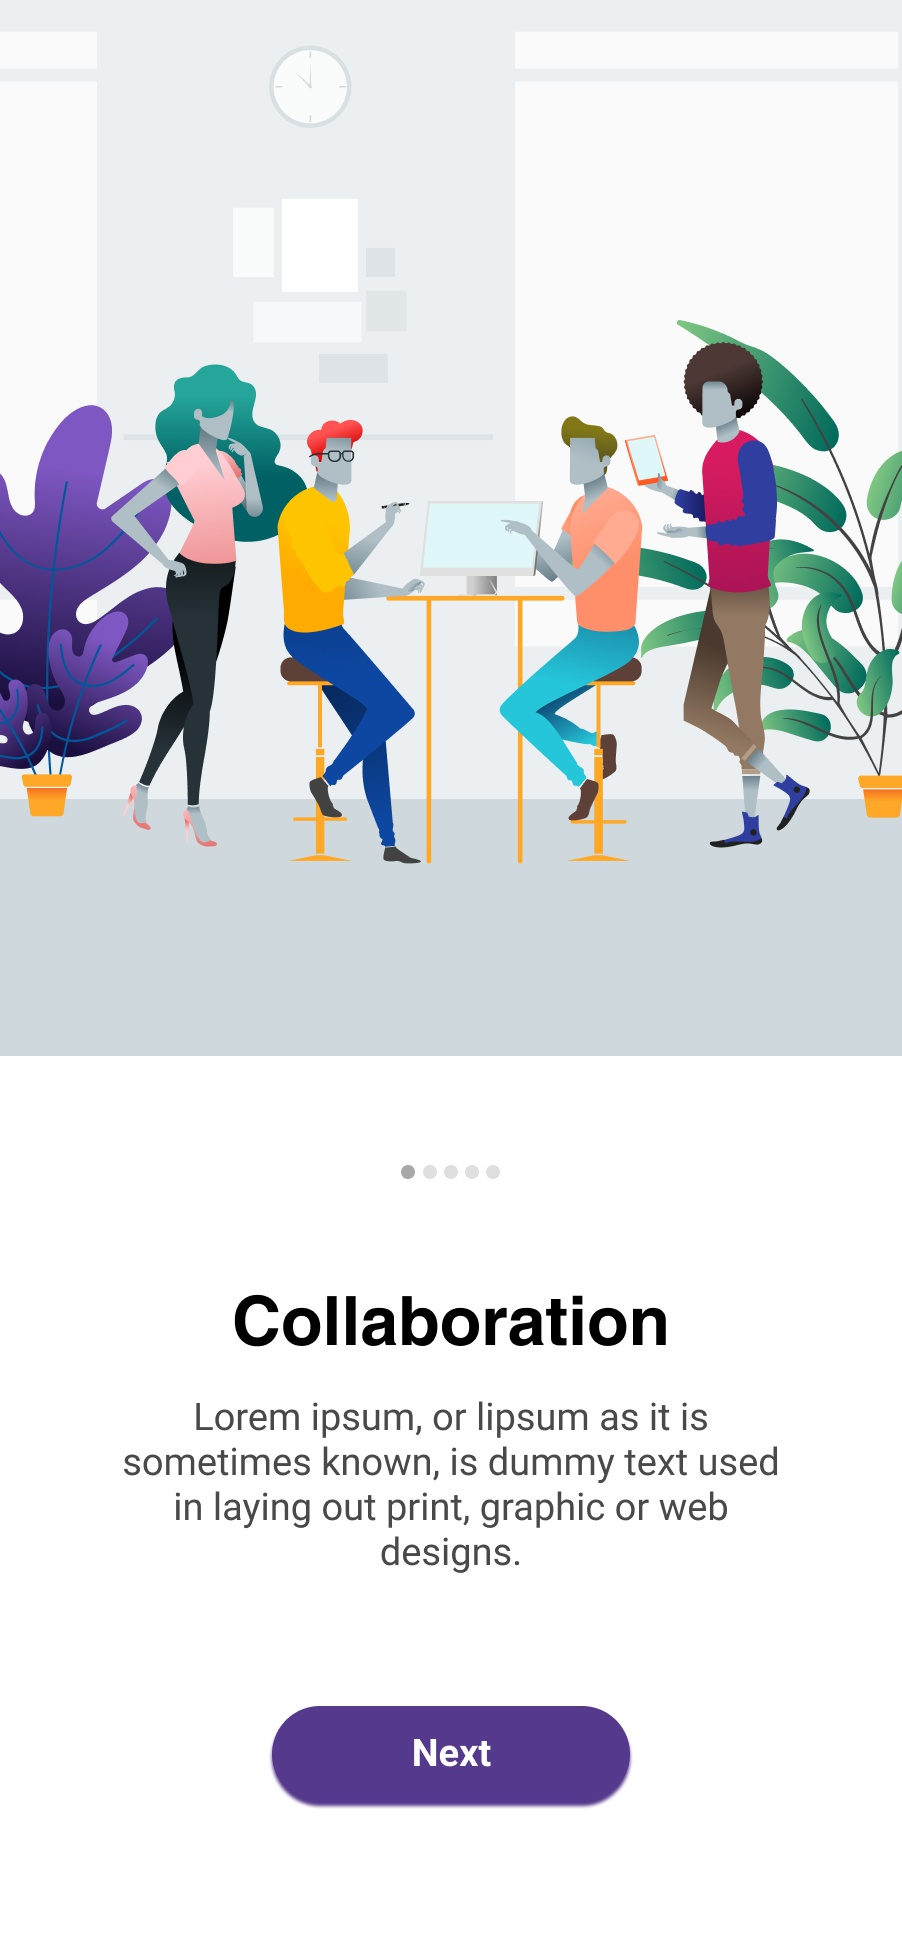Image: (1, 1, 901, 1056)
PageIndicator: (400, 1165, 502, 1181)
Text: (125, 1402, 777, 1574), (235, 1294, 667, 1346)
TextButton: (272, 1705, 632, 1807)
